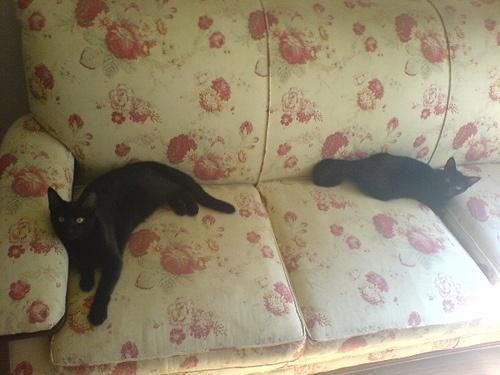cat: (45, 157, 239, 330), (312, 154, 480, 214)
sofa: (5, 3, 500, 371)
